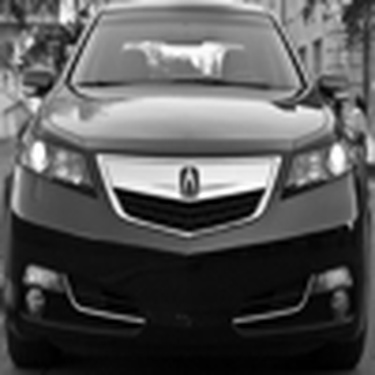car: (3, 4, 369, 371)
